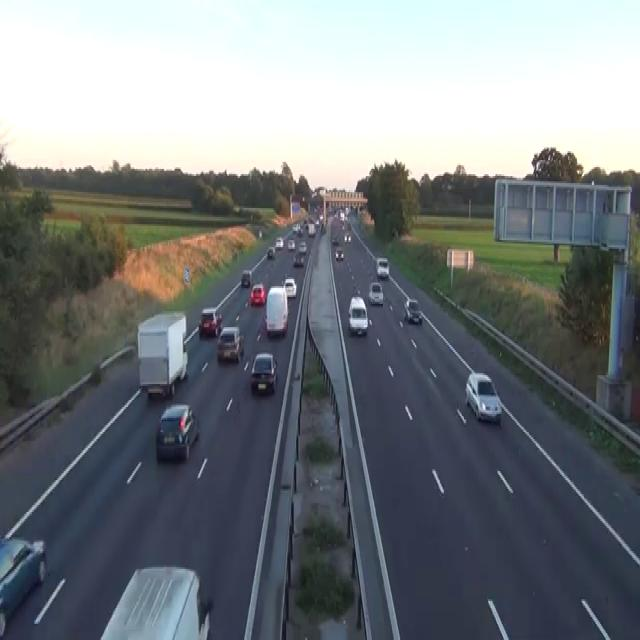Car: (99, 564, 210, 638), (0, 535, 46, 637), (155, 404, 199, 461), (464, 372, 502, 423), (250, 352, 277, 393), (217, 325, 244, 363), (347, 295, 368, 336), (198, 308, 222, 336), (403, 297, 422, 323), (250, 282, 266, 306), (368, 281, 383, 306), (375, 256, 389, 277), (283, 277, 297, 297), (241, 268, 252, 286), (293, 250, 303, 266), (335, 247, 344, 260), (307, 222, 315, 236), (341, 219, 350, 231), (275, 236, 283, 249), (267, 245, 275, 258), (298, 240, 306, 252), (287, 238, 295, 249), (331, 235, 338, 245), (344, 233, 351, 242), (296, 226, 303, 234), (292, 222, 297, 233), (320, 222, 325, 233), (333, 208, 339, 217), (339, 210, 344, 220), (302, 218, 307, 228), (344, 206, 349, 215), (314, 217, 319, 226), (258, 228, 262, 238), (341, 222, 345, 230)
Truck: (136, 309, 188, 396), (265, 284, 288, 336)
